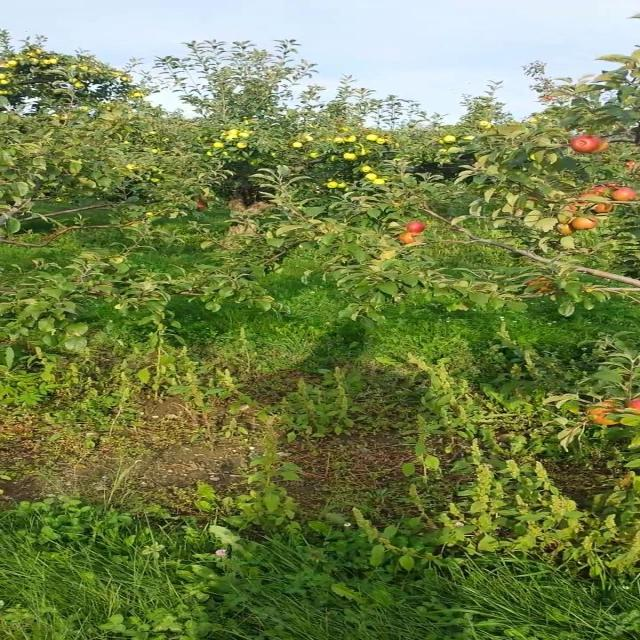apple: (589, 404, 622, 426), (611, 188, 639, 203), (625, 400, 639, 428), (525, 280, 555, 293), (575, 136, 596, 153), (397, 232, 420, 244), (582, 188, 608, 198), (625, 400, 639, 418), (575, 220, 597, 231), (596, 204, 617, 214), (582, 192, 601, 203), (596, 140, 612, 153), (561, 224, 576, 236), (589, 188, 608, 195), (412, 224, 427, 232), (568, 204, 581, 212), (198, 204, 206, 211)
